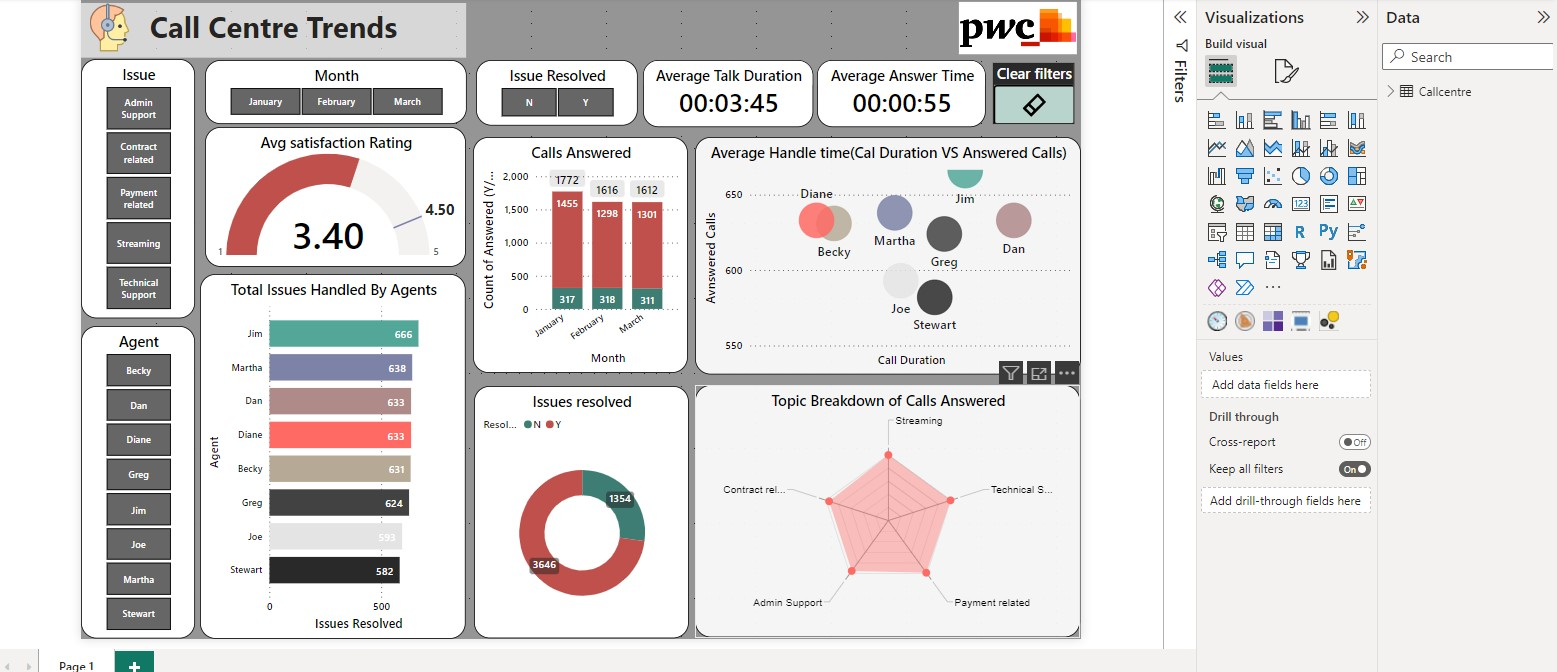

The page's visual inventory and layout, read from the dashboard file:
{"tool":"powerbi","page":{"name":"Page 1","canvas":[1280,820],"ordinal":0},"visuals":[{"type":"columnChart","title":"Calls Answered","fields":{"Category":["Callcentre.Date.Variation.Date Hierarchy.Month"],"Y":["CountNonNull(Callcentre.Answered (Y/N))"],"Series":["Callcentre.Answered (Y/N)"]},"box":[502.1,177.7,275,302.3],"z":0},{"type":"slicer","title":"Month ","fields":{"Values":["Callcentre.Date.Variation.Date Hierarchy.Month"]},"box":[158.4,79.8,334.6,82.4],"z":1000},{"type":"slicer","title":"Issue","fields":{"Values":["Callcentre.Topic"]},"box":[0,78.6,145.7,332.1],"z":2000},{"type":"slicer","title":"Agent","fields":{"Values":["Callcentre.Agent"]},"box":[0,419.5,145.7,400.5],"z":3000},{"type":"image","box":[1118.7,0,161.3,76.8],"z":4000},{"type":"card","title":"Average Answer Time","fields":{"Values":["Callcentre.AVGPIckupCallDurationMeasure"]},"box":[942.1,79.4,216.3,85.8],"z":5000},{"type":"gauge","title":"Avg satisfaction Rating ","fields":{"Y":["Avg(Callcentre.Satisfaction rating)"],"MinValue":["Min(Callcentre.Satisfaction rating)"],"MaxValue":["Max(Callcentre.Satisfaction rating)"]},"box":[158.7,165.1,334.1,179.2],"z":6000},{"type":"card","title":"Average Talk Duration","fields":{"Values":["Callcentre.AvgTalkDurationMeasure"]},"box":[719,79.4,217.6,85.8],"z":7000},{"type":"slicer","title":"Issue Resolved","fields":{"Values":["Callcentre.Resolved"]},"box":[505.7,79.8,206.6,83.6],"z":8000},{"type":"donutChart","title":"Issues resolved","fields":{"Series":["Callcentre.Resolved"],"Y":["CountNonNull(Callcentre.Resolved)"]},"box":[503,496.6,274.6,323.4],"z":9000},{"type":"scatterChart","title":"Average Handle time(Cal Duration VS Answered Calls)","fields":{"Y":["CountNonNull(Callcentre.Answered (Y/N))"],"X":["Avg(Callcentre.AvgTalkDuratiomInseconds)"],"Series":["Callcentre.Agent"]},"box":[785.8,177.4,494.3,304.2],"z":10000},{"type":"barChart","title":"Total Issues Handled By Agents","fields":{"Category":["Callcentre.Agent"],"Y":["CountNonNull(Callcentre.Resolved)"],"Series":["Callcentre.Agent"]},"box":[152.3,353.3,340.5,467.2],"z":11000},{"type":"RadarChart1446119667547","title":"Topic Breakdown of Calls Answered","fields":{"Category":["Callcentre.Topic"],"Y":["CountNonNull(Callcentre.Answered (Y/N))"]},"box":[785.8,495.5,493,323.2],"z":12000},{"type":"actionButton","title":"Clear filters","box":[1167.4,83.2,103.7,78.1],"z":13000},{"type":"textbox","box":[0,6.4,492.8,70.4],"z":14000},{"type":"image","box":[0,0,73,76.8],"z":14001}]}

Visuals, with their boxes in screenshot pixels (x1, y1, x2, y2):
"Calls Answered" columnChart: 469 135 684 371
"Month " slicer: 201 58 462 123
"Issue" slicer: 77 57 191 317
"Agent" slicer: 77 323 191 636
image: 950 0 1076 56
"Average Answer Time" card: 813 58 981 125
"Avg satisfaction Rating " gauge: 201 125 462 265
"Average Talk Duration" card: 638 58 808 125
"Issue Resolved" slicer: 472 58 633 124
"Issues resolved" donutChart: 470 384 684 636
"Average Handle time(Cal Duration VS Answered Calls)" scatterChart: 691 134 1077 372
"Total Issues Handled By Agents" barChart: 196 272 462 637
"Topic Breakdown of Calls Answered" RadarChart1446119667547: 691 383 1076 635
"Clear filters" actionButton: 989 61 1069 122
textbox: 77 1 462 56
image: 77 0 134 56
